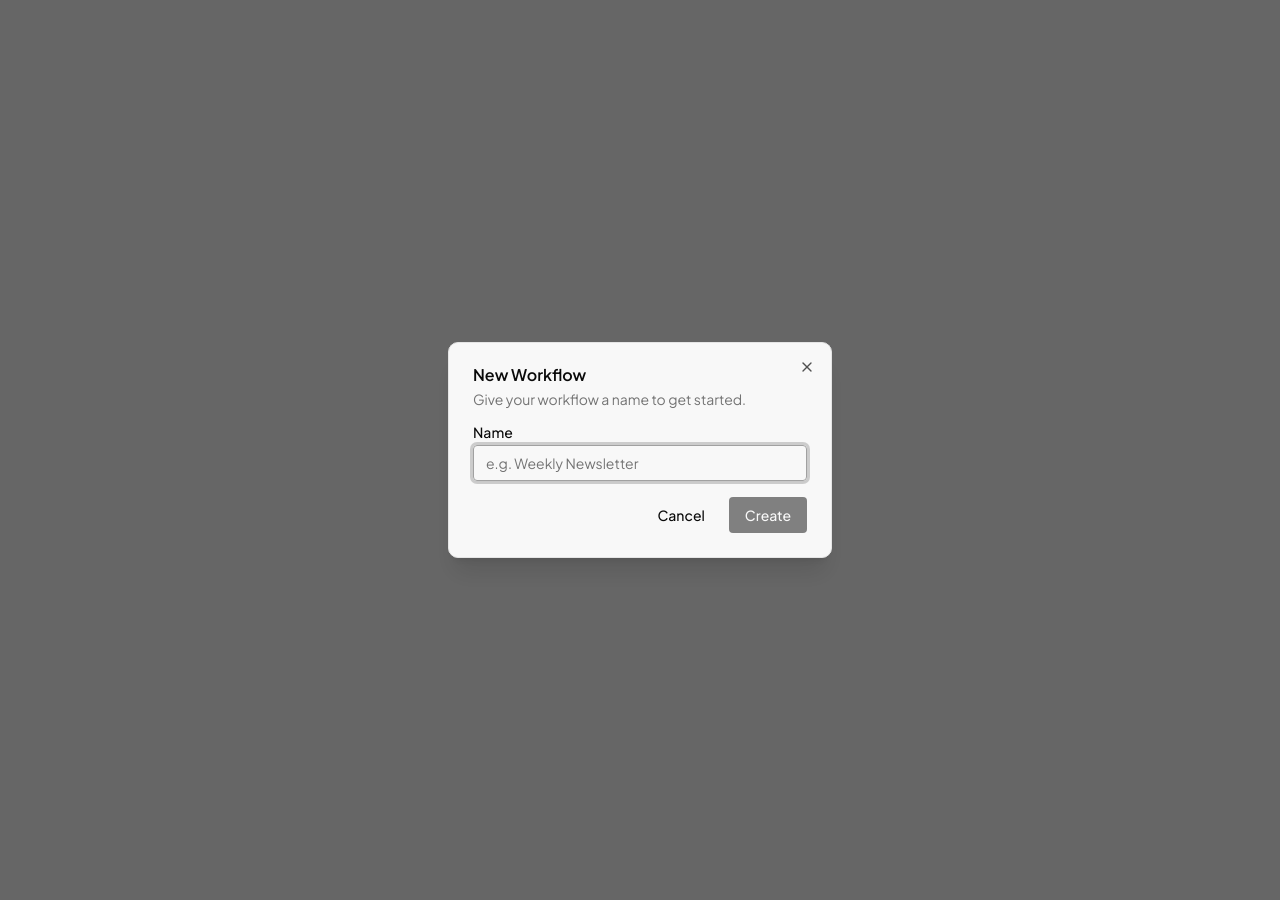
Test: NewWorkflowDialog › shows a submitting label and disables inputs during submission
The width and height of the screenshot is (1280, 900).
Type "My Flow" into the field labelled "Name" at point(640, 463), box [473, 445, 807, 481]
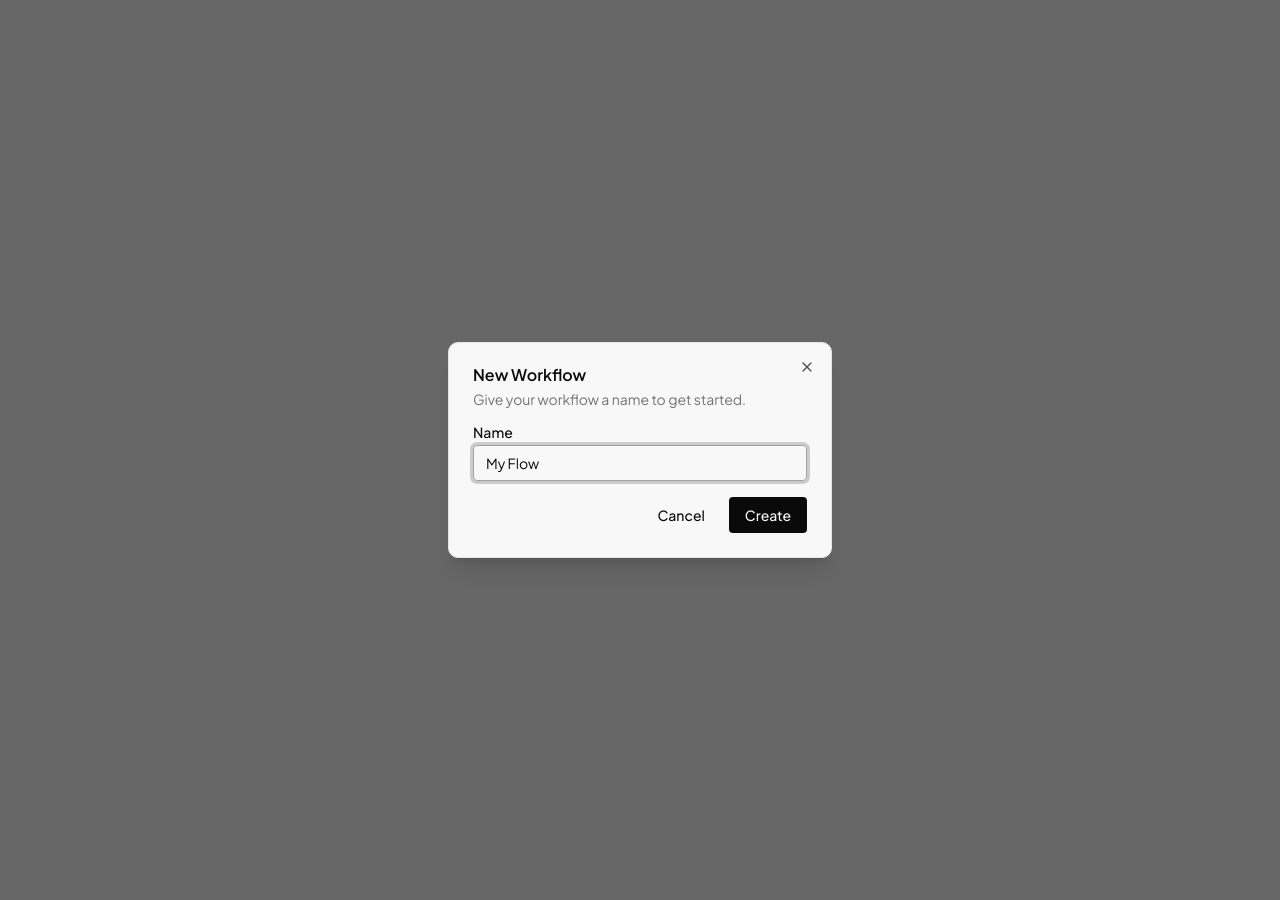
Click the button "Create" at point(768, 515), box [729, 497, 807, 533]
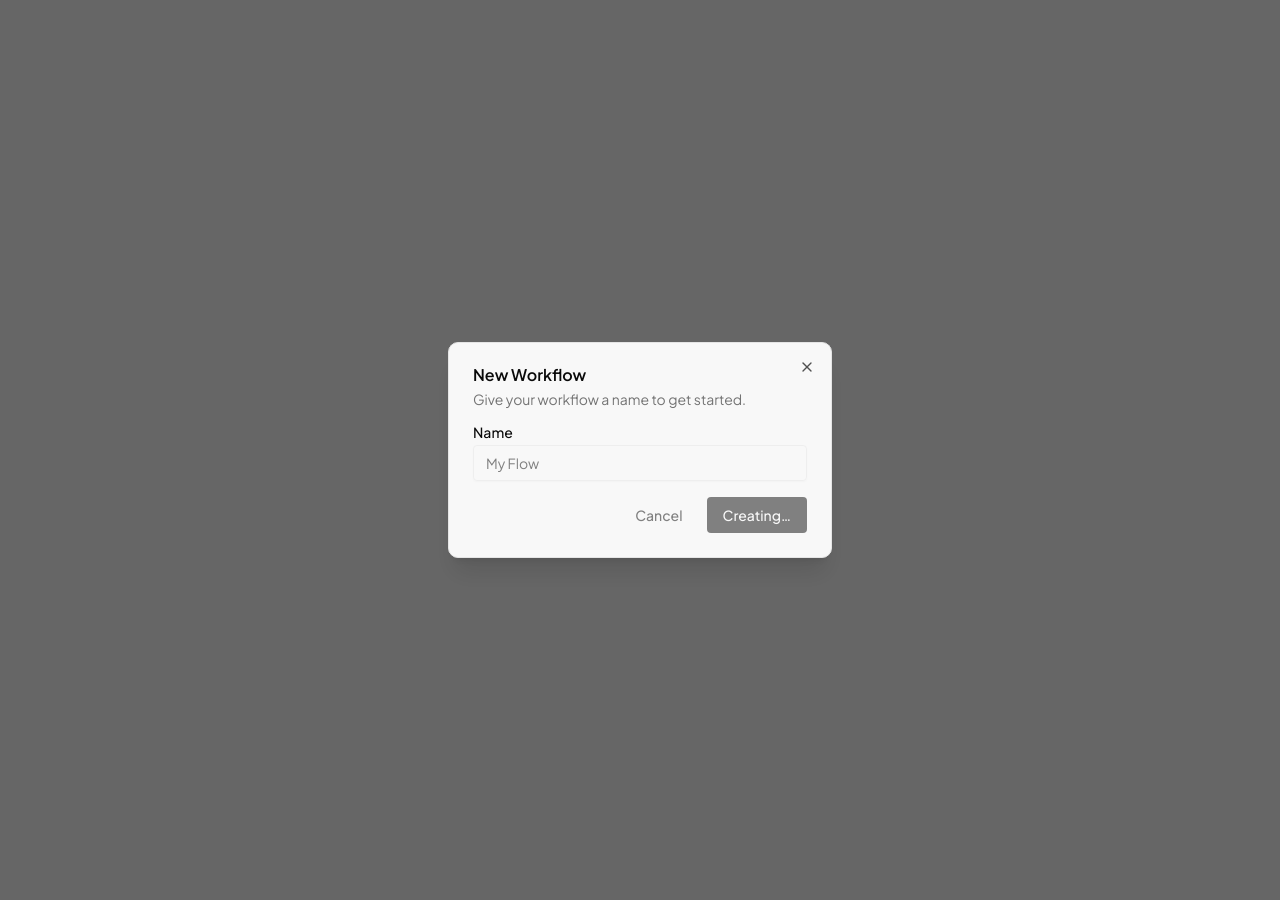
Result: the button "Creating…" is disabled at [706, 497, 807, 533]
Result: the field labelled "Name" is disabled at [473, 445, 807, 481]
